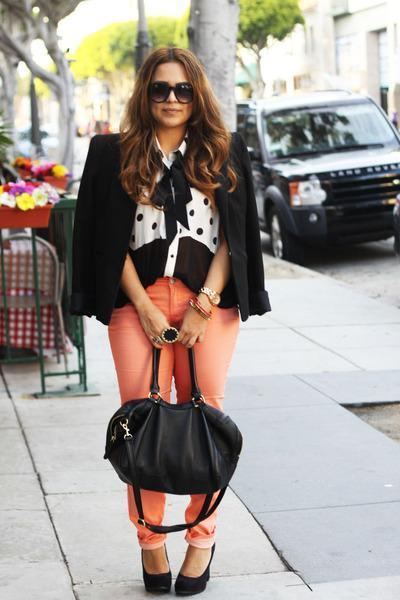bag: (104, 353, 242, 533)
jacket: (72, 134, 281, 325)
pants: (108, 276, 238, 556)
shirt: (122, 156, 217, 299)
shoe: (142, 564, 203, 599)
sunglass: (163, 82, 200, 107)
